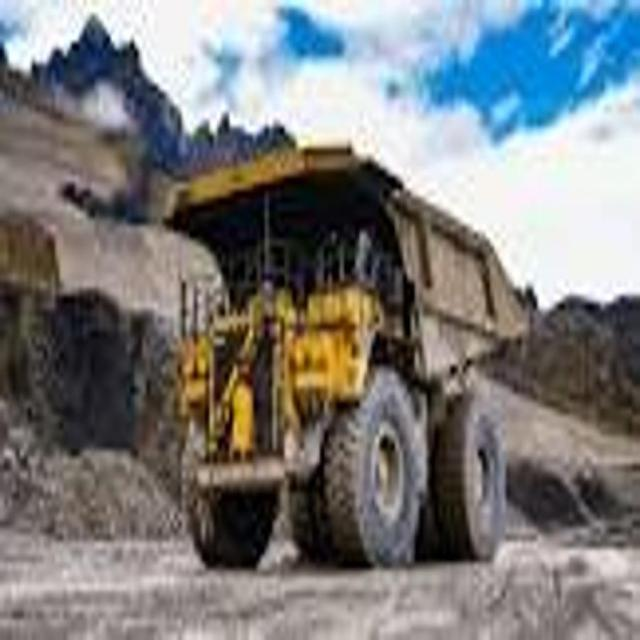dump_truck: (157, 122, 537, 588)
